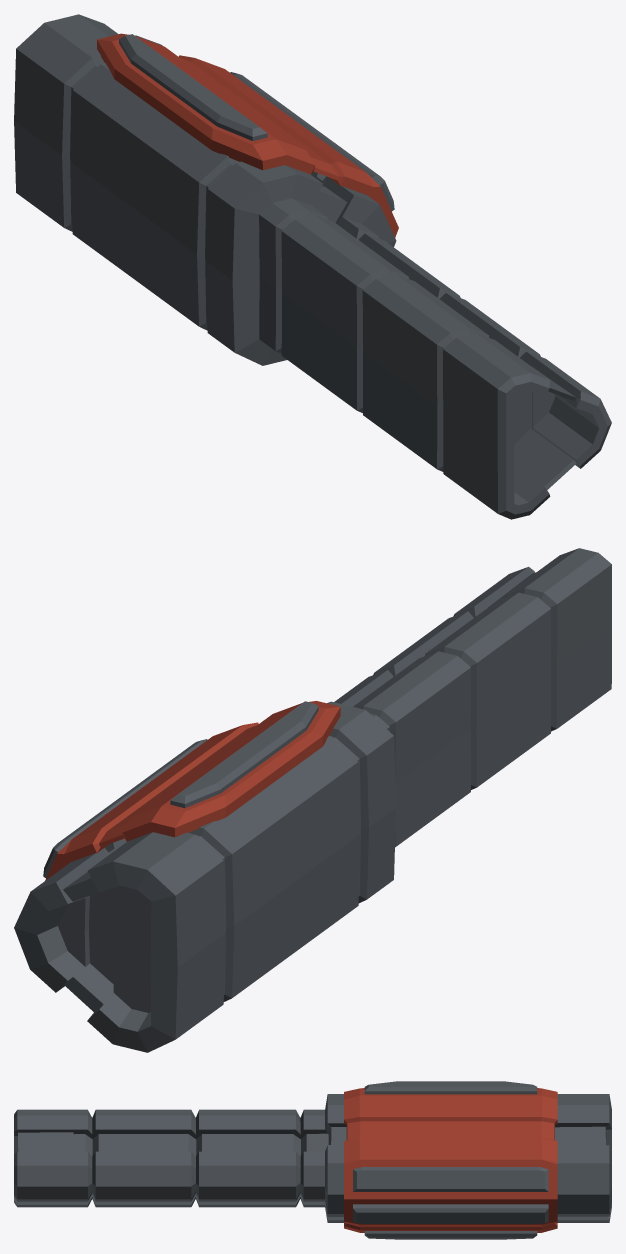
The model's file is Fighter_10_Thruster_Left_Red.fbx.
3 renders of one model, top to bottom at view 1: azimuth 30°, elevation 25°; view 2: azimuth 150°, elevation 25°; view 3: azimuth 270°, elevation 25°, orthographic. The views are drawn at different scales.
Visible parts, largest first — view 1: Fighter_10_Thruster_Left_Red; view 2: Fighter_10_Thruster_Left_Red; view 3: Fighter_10_Thruster_Left_Red.
Boxes of the visible parts, x1=… form: Fighter_10_Thruster_Left_Red: x1=14, y1=14, x2=611, y2=519; Fighter_10_Thruster_Left_Red: x1=14, y1=548, x2=611, y2=1052; Fighter_10_Thruster_Left_Red: x1=14, y1=1081, x2=611, y2=1239.
Bounding box in the file's own units: 311 × 362 × 1360.
2 materials, 2 textured.
